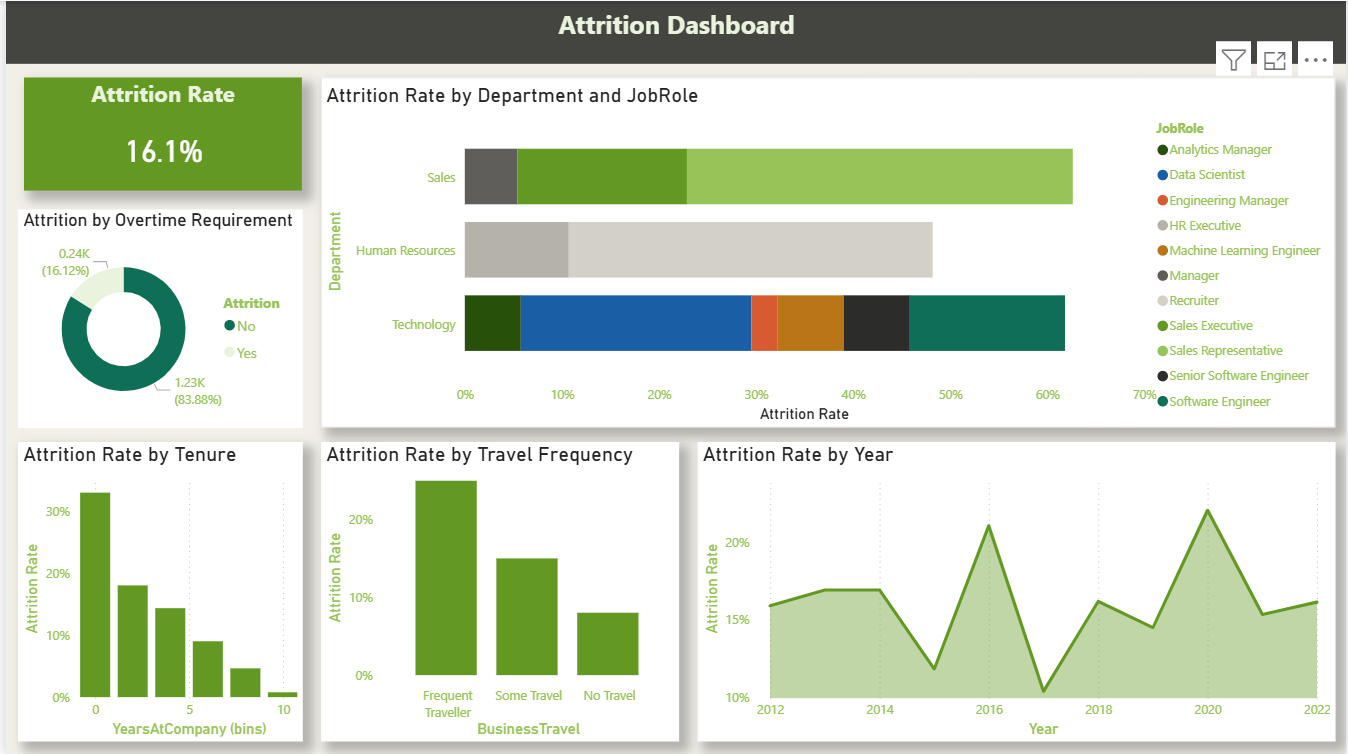

The page's visual inventory and layout, read from the dashboard file:
{"tool":"powerbi","page":{"name":"Attrition Dashboard","canvas":[1280,720],"ordinal":3},"visuals":[{"type":"textbox","box":[0,0,1280.8,59.9],"z":0},{"type":"card","title":"Attrition Rate","fields":{"Values":["_Metrics.Attrition Rate"]},"box":[17.5,73.2,265.6,108.2],"z":1000},{"type":"barChart","fields":{"Y":["_Metrics.Attrition Rate"],"Series":["Employee.JobRole"],"Category":["Employee.Department"]},"box":[300.6,73.2,968.7,334],"z":2000},{"type":"areaChart","fields":{"Y":["_Metrics.Attrition Rate"],"Category":["Dim_Date.Date.Variation.Date Hierarchy.Year"]},"box":[660.1,421.5,609.2,286.3],"z":3000},{"type":"clusteredColumnChart","title":"Attrition Rate by Travel Frequency","fields":{"Category":["Employee.BusinessTravel"],"Y":["_Metrics.Attrition Rate"]},"box":[300.6,421.5,342,286.3],"z":4000},{"type":"clusteredColumnChart","title":"Attrition Rate by Tenure","fields":{"Category":["Employee.YearsAtCompany (bins)"],"Y":["_Metrics.Attrition Rate"]},"box":[11.1,421.5,272,286.3],"z":5000},{"type":"donutChart","title":"Attrition by Overtime Requirement","fields":{"Category":["Employee.Attrition"],"Y":["CountNonNull(Employee.OverTime)"]},"box":[11.1,198.8,272,208.4],"z":6000}]}

Visuals, with their boxes in screenshot pixels (x1, y1, x2, y2), scaled from the page's 1280x720 canvas onto the 1348x754 screenshot:
textbox: <box>0,0,1347,63</box>
"Attrition Rate" card: <box>18,77,298,190</box>
barChart - _Metrics.Attrition Rate x Employee.JobRole: <box>317,77,1337,426</box>
areaChart - _Metrics.Attrition Rate x Dim_Date.Date.Variation.Date Hierarchy.Year: <box>695,441,1337,741</box>
"Attrition Rate by Travel Frequency" clusteredColumnChart: <box>317,441,677,741</box>
"Attrition Rate by Tenure" clusteredColumnChart: <box>12,441,298,741</box>
"Attrition by Overtime Requirement" donutChart: <box>12,208,298,426</box>
